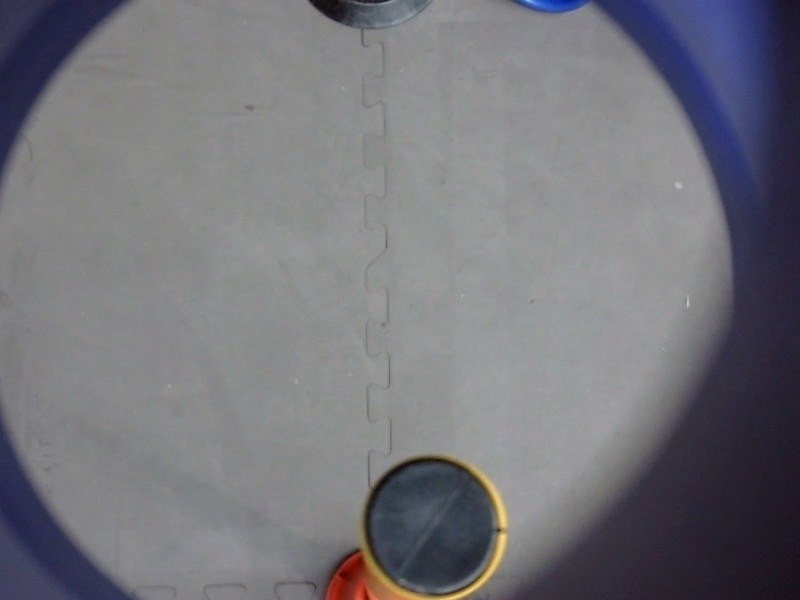tip: (352, 448, 517, 600)
